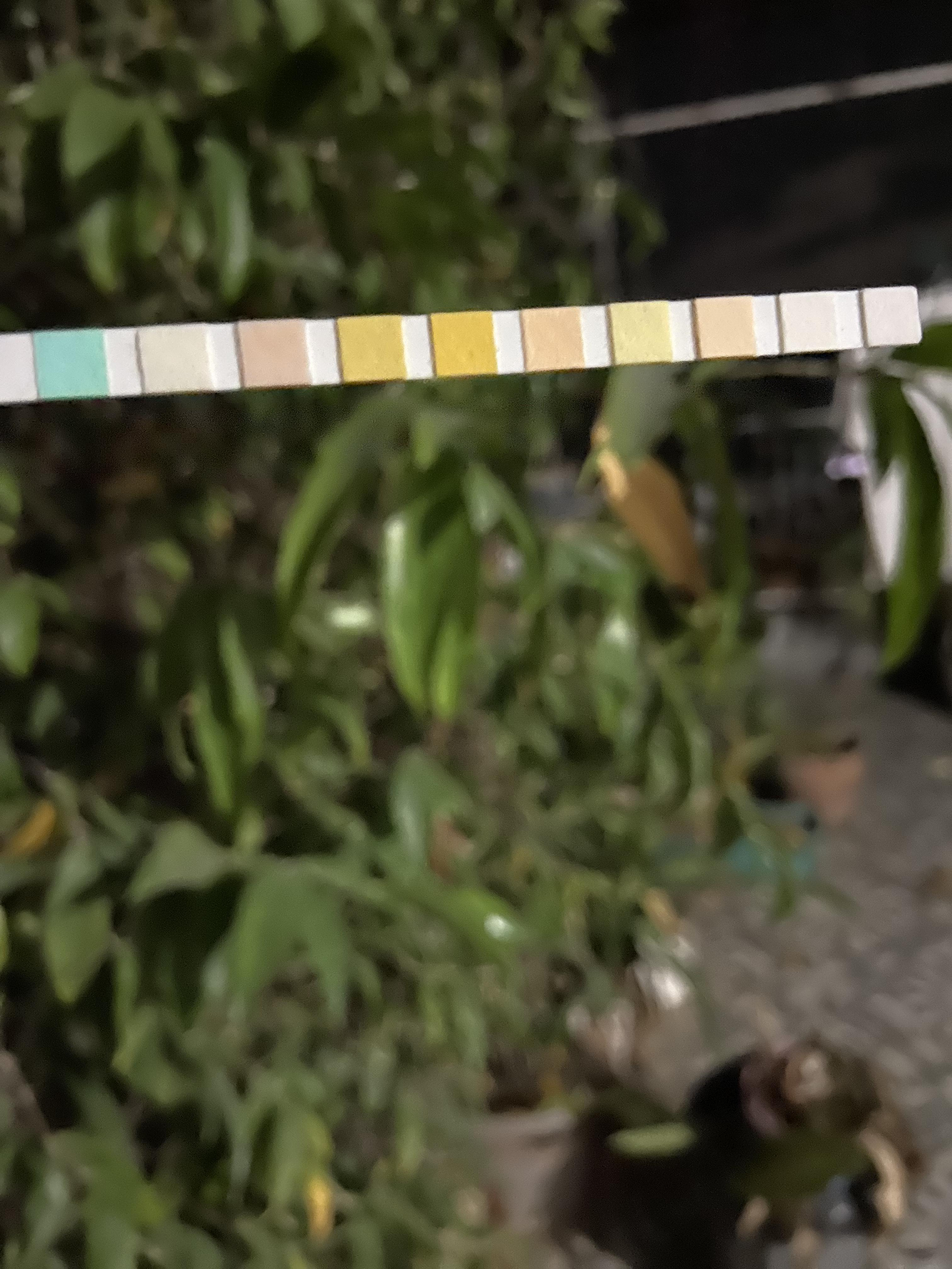Bilirubin: (143, 330, 206, 391)
Blood: (436, 314, 491, 374)
Glucose: (38, 333, 104, 396)
Ketone: (242, 323, 305, 384)
Leukocytes: (867, 289, 915, 344)
Nitrite: (784, 294, 833, 350)
Protein: (614, 304, 667, 361)
SpGravity: (342, 318, 400, 380)
Urobilinogen: (701, 298, 751, 355)
pH: (526, 311, 579, 367)
strip: (1, 286, 922, 403)
